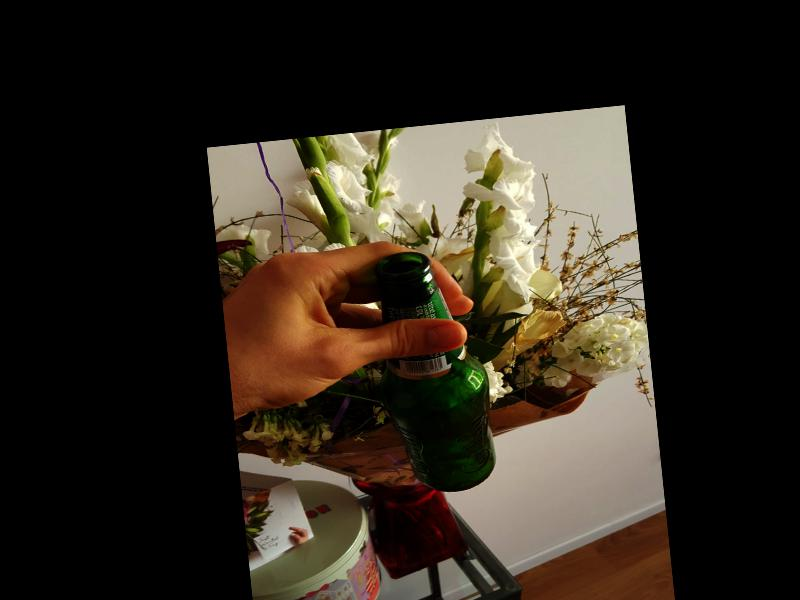Beer: (367, 246, 500, 499)
